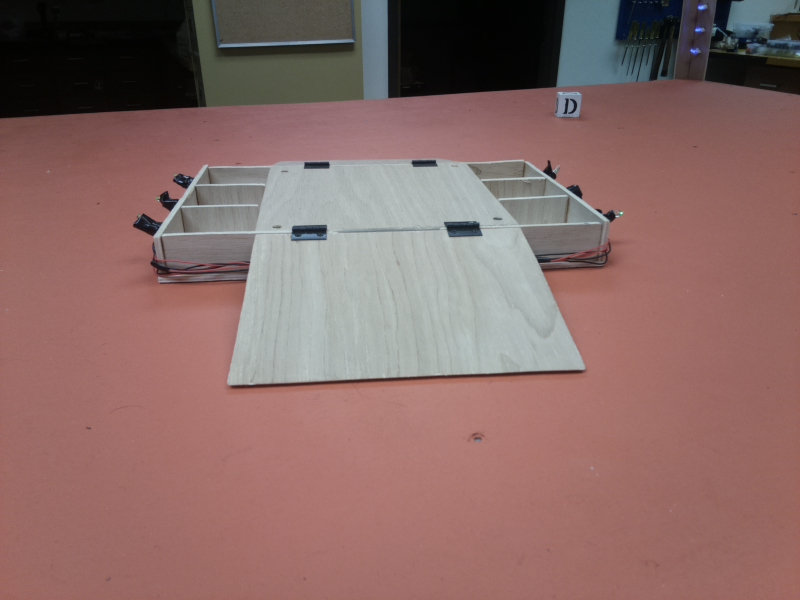blockD: (557, 91, 585, 119)
corner: (672, 1, 719, 82)
side: (470, 154, 624, 269), (136, 159, 271, 287)
slope: (230, 226, 588, 387), (269, 158, 462, 166)
